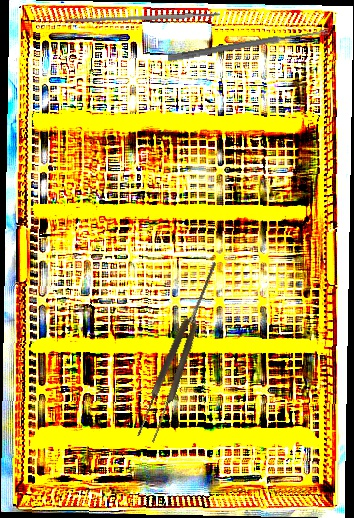Scalpel Handle: (64, 12, 221, 24)
Surgical Spoon: (167, 26, 329, 64)
Tissue Forceps: (134, 258, 227, 444)
